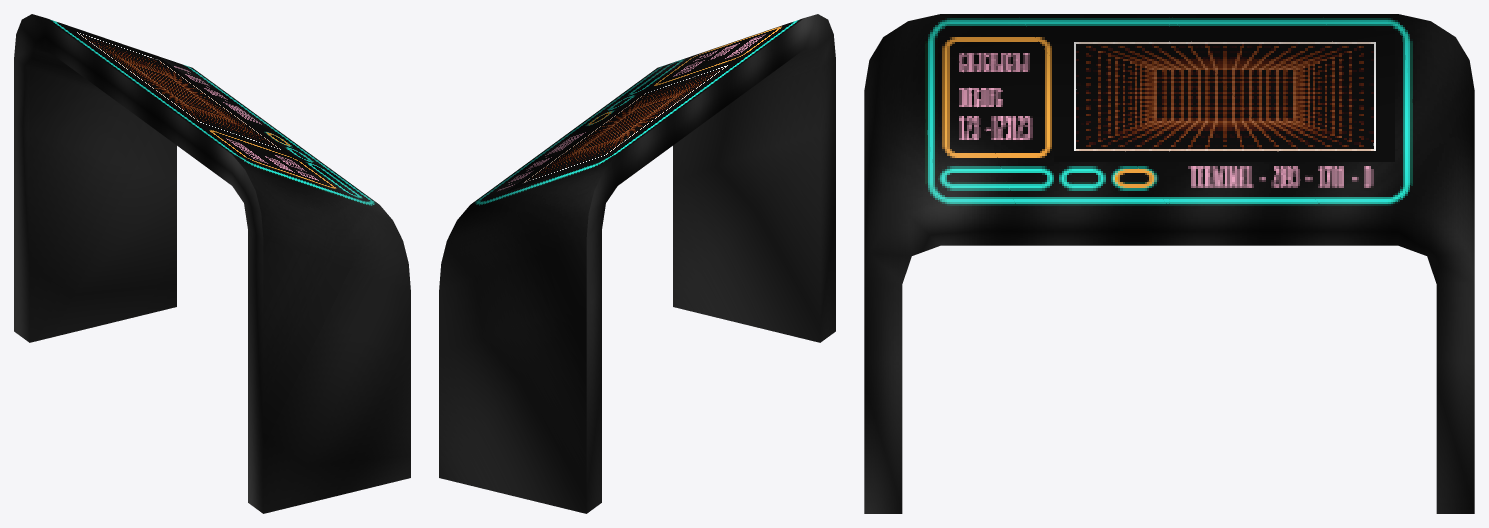
The model's file is galaxyTerminal.glb.
3 views of the same model, side by side, from view 1: azimuth 30°, elevation 25°; view 2: azimuth 150°, elevation 25°; view 3: azimuth 270°, elevation 25° (orthographic). The views are drawn at different scales.
Visible parts, largest first — view 1: TerminalWide; view 2: TerminalWide; view 3: TerminalWide.
Part boxes in pixels (bbox=[...]): TerminalWide: bbox=[14, 14, 410, 513]; TerminalWide: bbox=[439, 14, 835, 513]; TerminalWide: bbox=[864, 14, 1474, 513].
Bounding box in the file's own units: 0.5626 × 1.23 × 1.65.
1 material, 1 textured.
